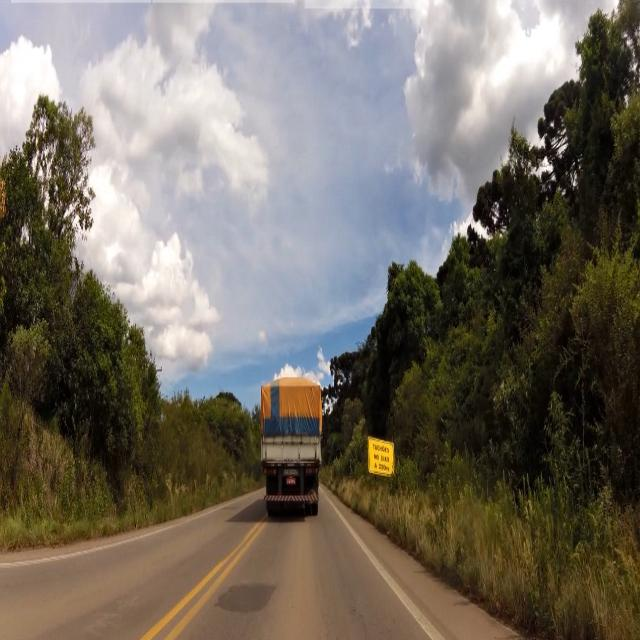ESP-20: (366, 436, 397, 482)
